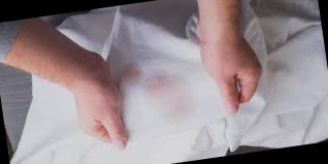wine: (142, 64, 204, 125), (116, 58, 152, 87)
